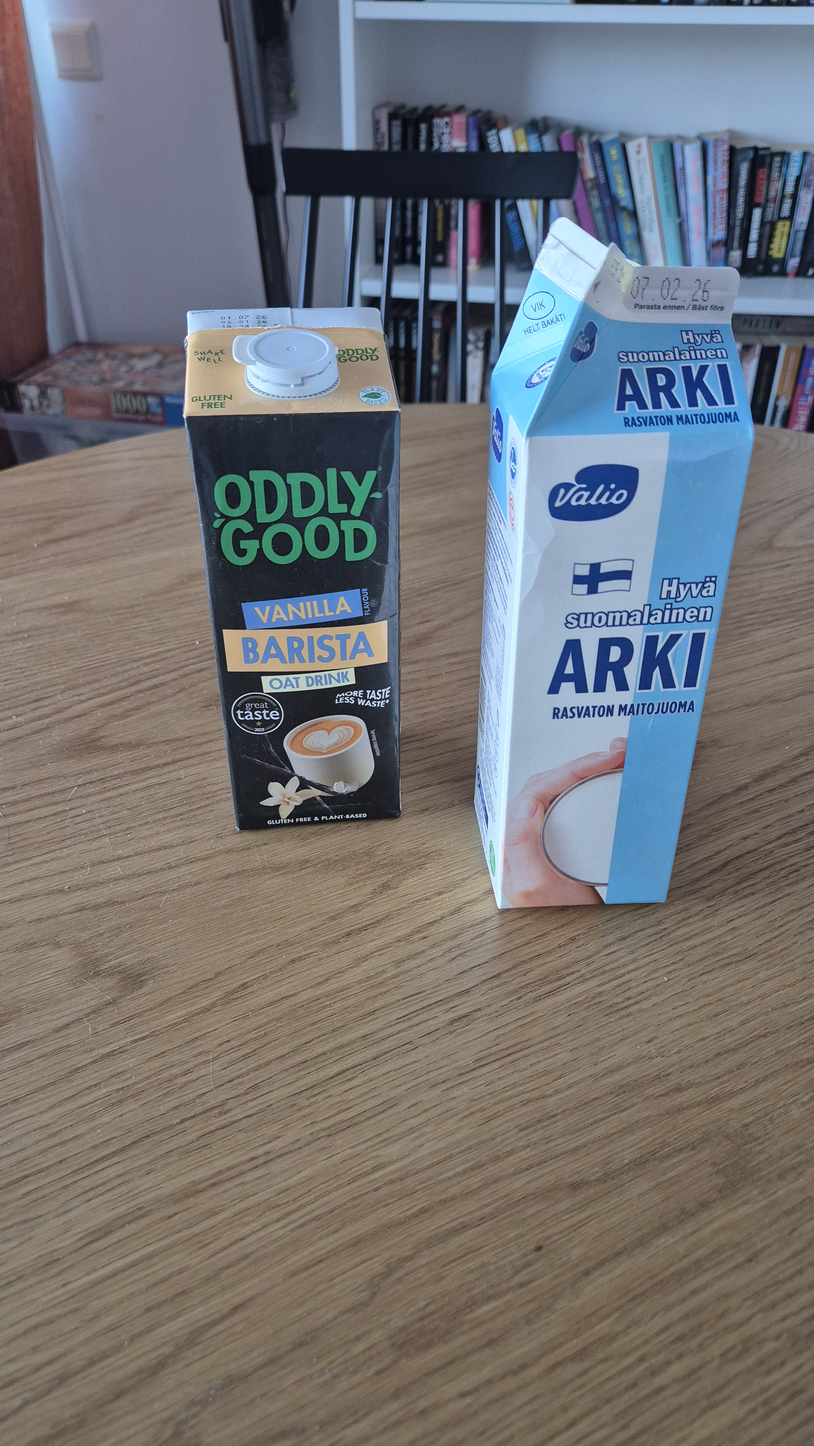Dryckeskartong: (474, 218, 756, 910), (183, 308, 402, 830)
